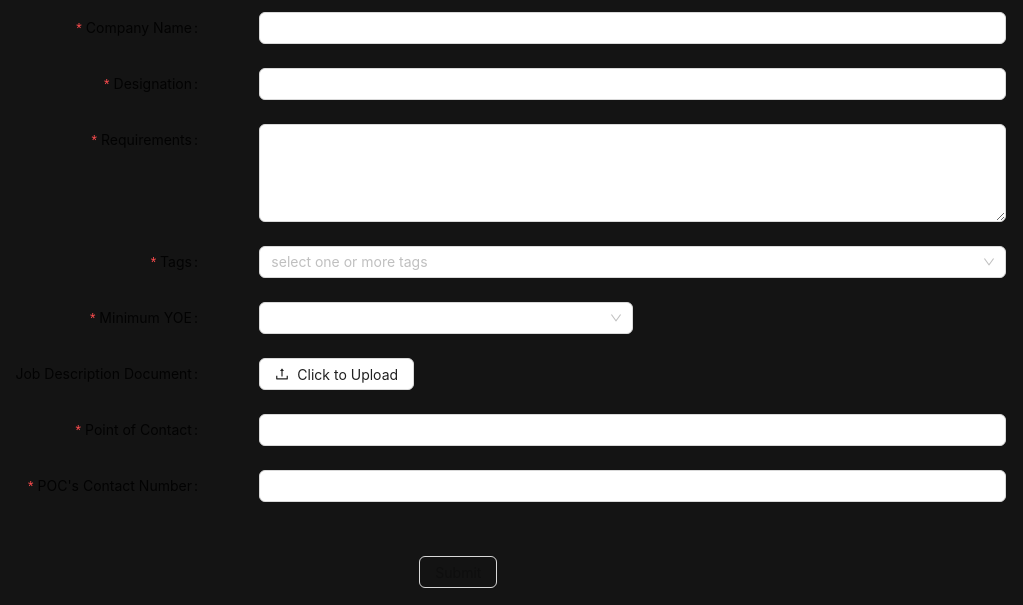
Test: JobForm › validation error message should be displayed when entering invalid company name
Type "Test Company" into the field labelled "Company Name" at (633, 28), box [259,12,1006,44]
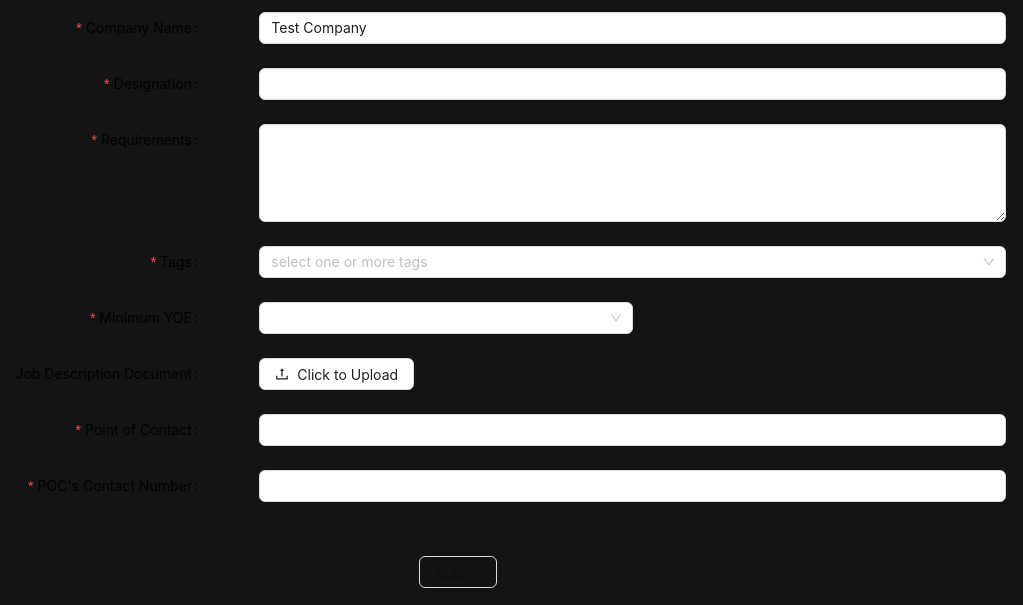
Clear the field labelled "Company Name" at (633, 28), box [259,12,1006,44]
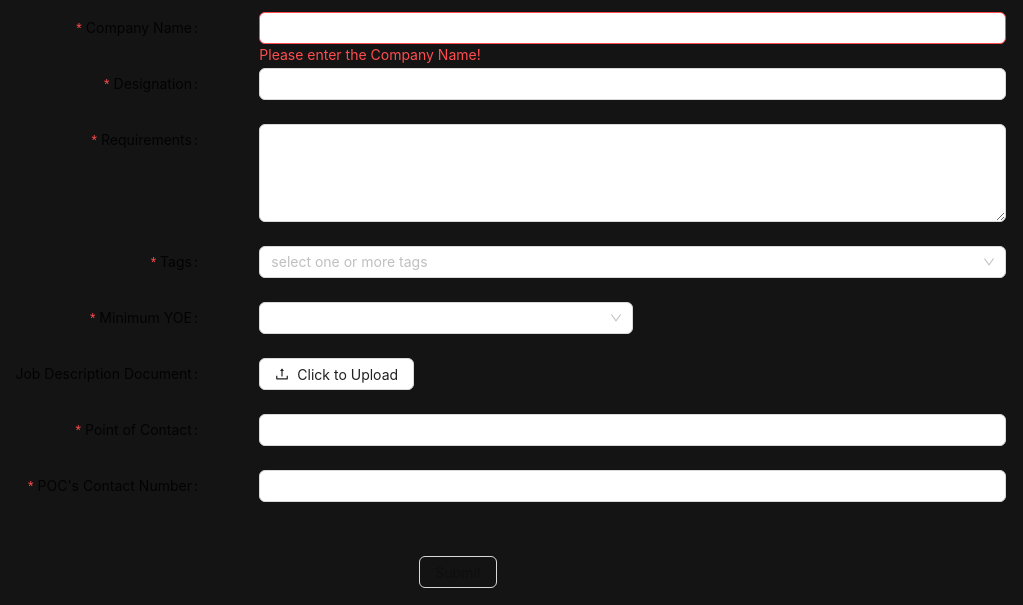
Check: the text "Please enter the Company Name!" is shown, box [259,46,481,63]
